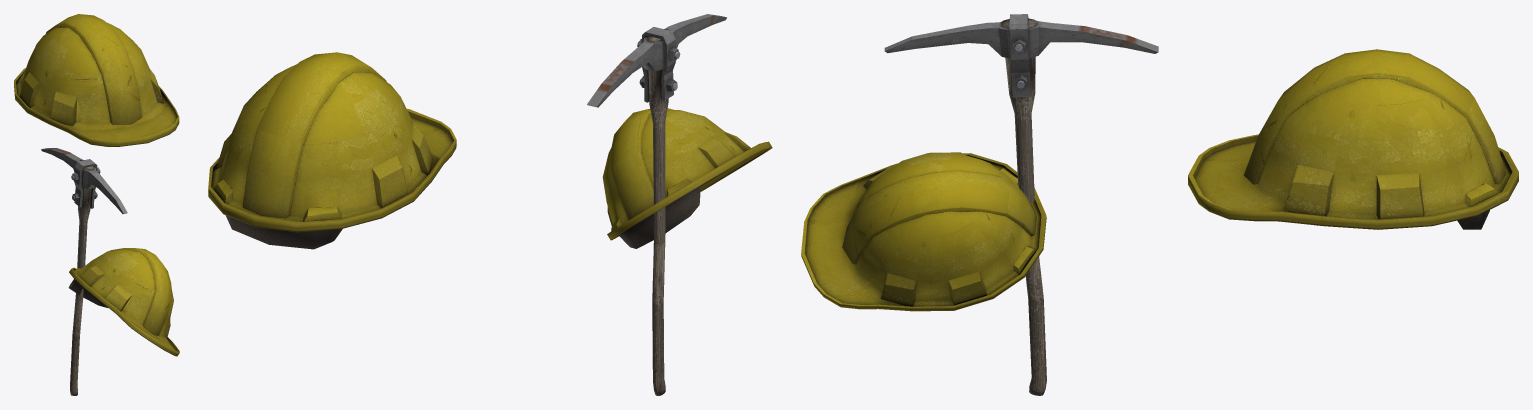
Rendered from Hardhat.glb.
The picture shows the model from 3 angles, left to right: view 1: azimuth 30°, elevation 25°; view 2: azimuth 150°, elevation 25°; view 3: azimuth 270°, elevation 25°; orthographic projection. The views are drawn at different scales.
Visible parts, largest first — view 1: WorldModel, hardhat, pickaxe; view 2: WorldModel, hardhat, pickaxe; view 3: WorldModel, hardhat, pickaxe.
Boxes of the visible parts, x1=… form: WorldModel: x1=14, y1=14, x2=179, y2=146; hardhat: x1=68, y1=248, x2=179, y2=356; pickaxe: x1=41, y1=148, x2=127, y2=395; WorldModel: x1=208, y1=52, x2=456, y2=249; hardhat: x1=602, y1=108, x2=772, y2=248; pickaxe: x1=587, y1=14, x2=726, y2=395; WorldModel: x1=1188, y1=49, x2=1518, y2=229; hardhat: x1=801, y1=152, x2=1046, y2=311; pickaxe: x1=884, y1=14, x2=1158, y2=395.
Bounding box in the file's own units: 0.7681 × 0.9702 × 1.45.
Materials: 2 (2 with a texture image).
